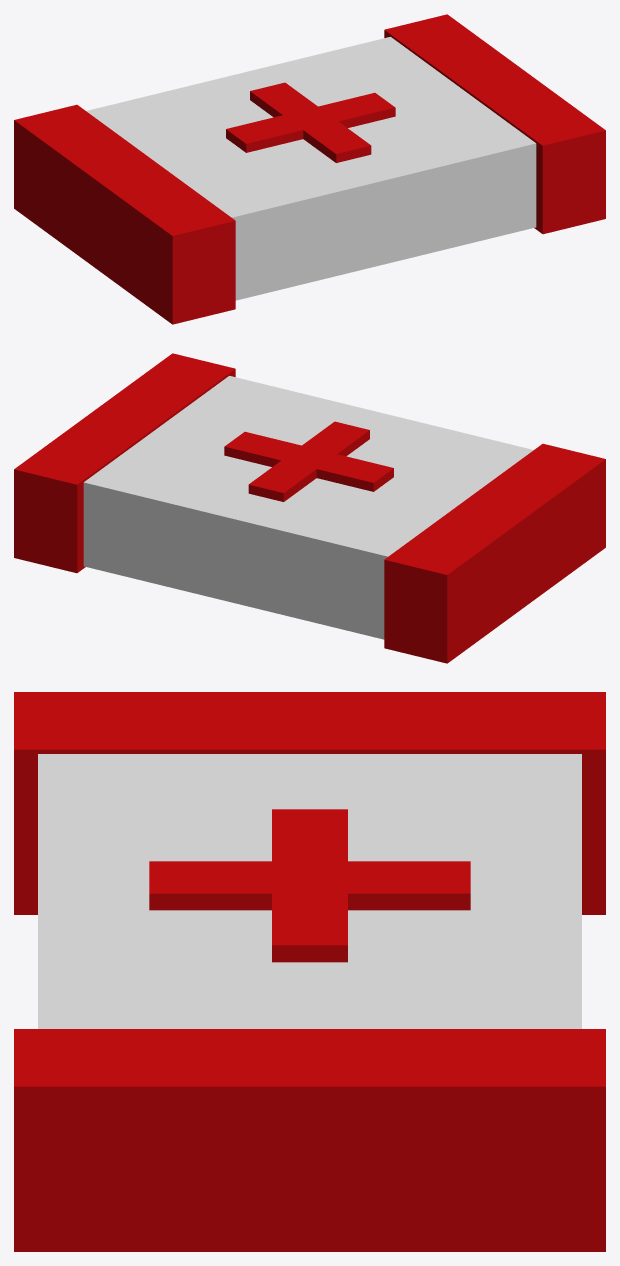
The model's file is medikit.fbx.
3 renders of one model, top to bottom at view 1: azimuth 30°, elevation 25°; view 2: azimuth 150°, elevation 25°; view 3: azimuth 270°, elevation 25°, orthographic. The views are drawn at different scales.
Visible parts, largest first — view 1: Cube, Cube.002, Cube.001, Cube.004, Cube.003; view 2: Cube, Cube.002, Cube.001, Cube.003, Cube.004; view 3: Cube.001, Cube, Cube.002, Cube.003, Cube.004.
Part boxes in pixels (bbox=[...]): Cube: bbox=[86, 37, 536, 300]; Cube.002: bbox=[14, 104, 235, 324]; Cube.001: bbox=[384, 14, 605, 234]; Cube.004: bbox=[226, 92, 395, 152]; Cube.003: bbox=[250, 82, 371, 162]; Cube: bbox=[83, 376, 533, 639]; Cube.002: bbox=[384, 443, 605, 663]; Cube.001: bbox=[14, 353, 235, 573]; Cube.003: bbox=[248, 421, 369, 501]; Cube.004: bbox=[224, 431, 393, 491]; Cube.001: bbox=[14, 1029, 605, 1251]; Cube: bbox=[38, 754, 581, 1028]; Cube.002: bbox=[14, 692, 605, 914]; Cube.003: bbox=[149, 861, 470, 910]; Cube.004: bbox=[272, 809, 347, 962].
Bounding box in the file's own units: 236 × 49.65 × 150.
